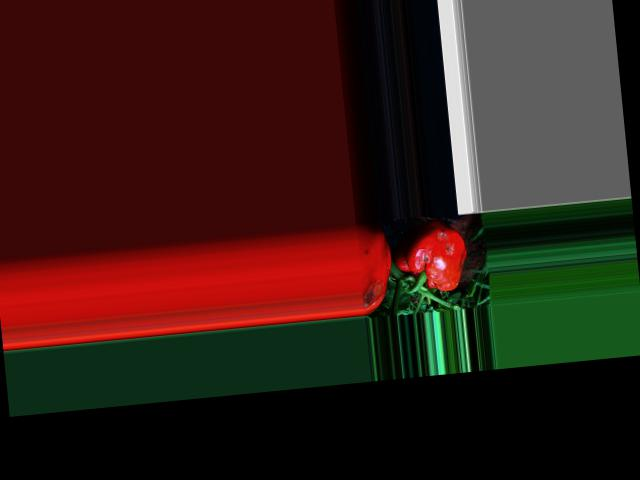bell_pepper: (390, 213, 467, 302)
